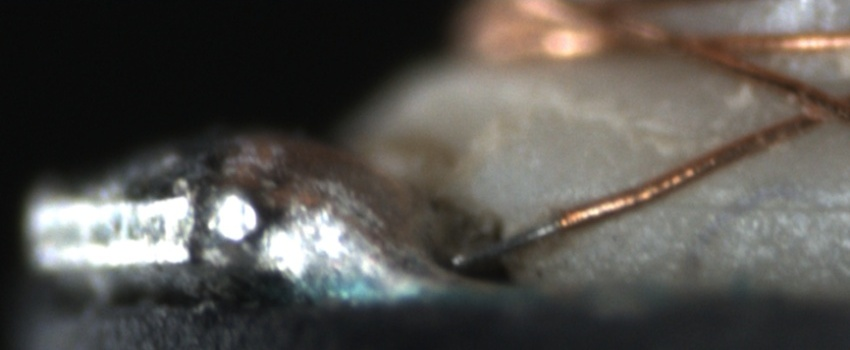DL: (611, 174, 850, 238)
TS: (449, 220, 561, 272)
TTCW: (450, 186, 635, 274)
